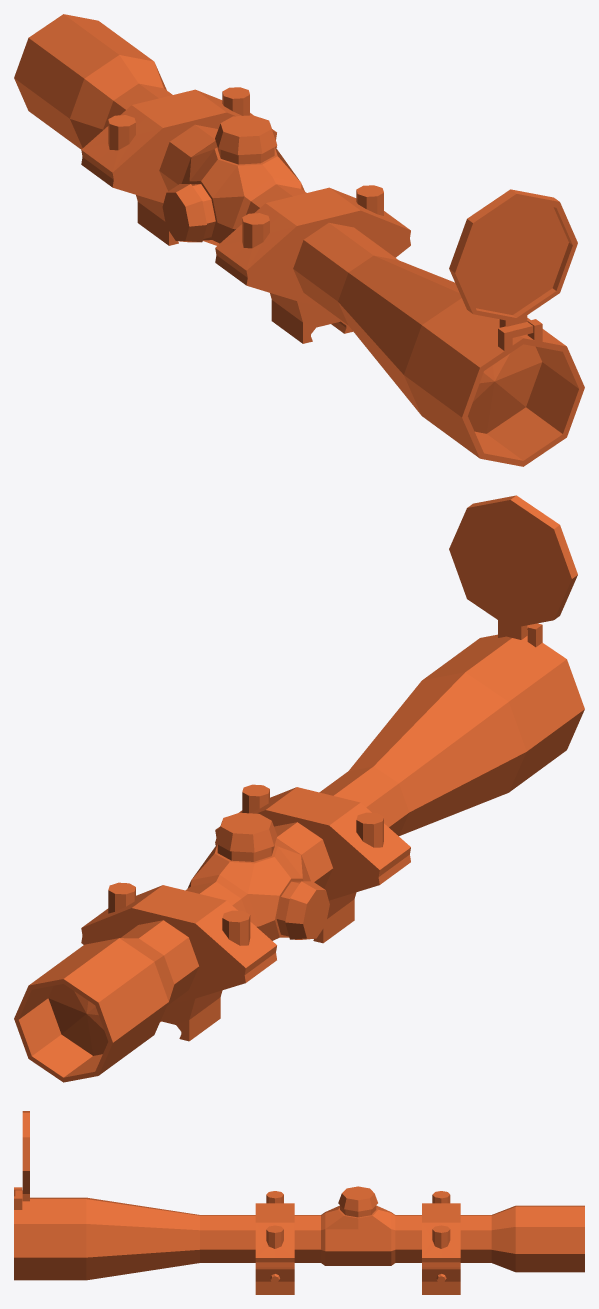
File: acc_scope_16X.fbx
The picture shows the model from 3 angles, top to bottom: view 1: azimuth 30°, elevation 25°; view 2: azimuth 150°, elevation 25°; view 3: azimuth 270°, elevation 25°; orthographic projection. The views are drawn at different scales.
Parts seen in each view (by area): view 1: acc_scope_16X; view 2: acc_scope_16X; view 3: acc_scope_16X.
Boxes of the visible parts, x1,y1,x2,y2 form: acc_scope_16X: [14, 14, 584, 466]; acc_scope_16X: [14, 495, 584, 1082]; acc_scope_16X: [14, 1111, 584, 1294].
Size of the model in its own units: 44.28 by 72.34 by 214.
